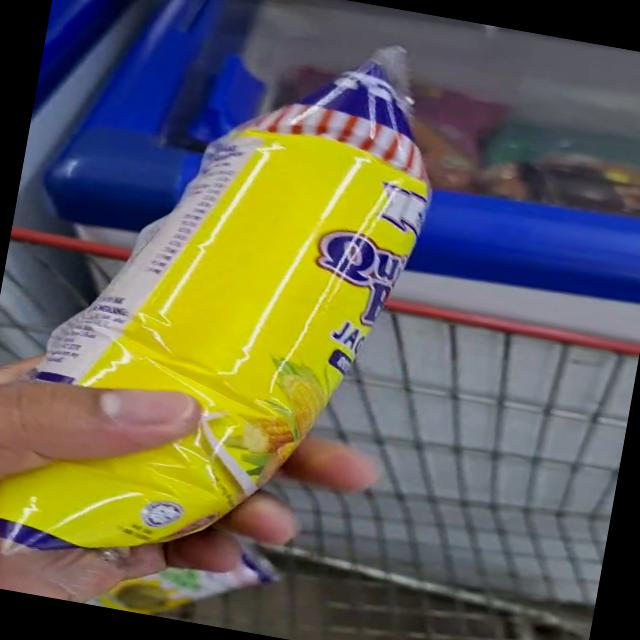Roti: (126, 25, 499, 409), (0, 224, 365, 600)
